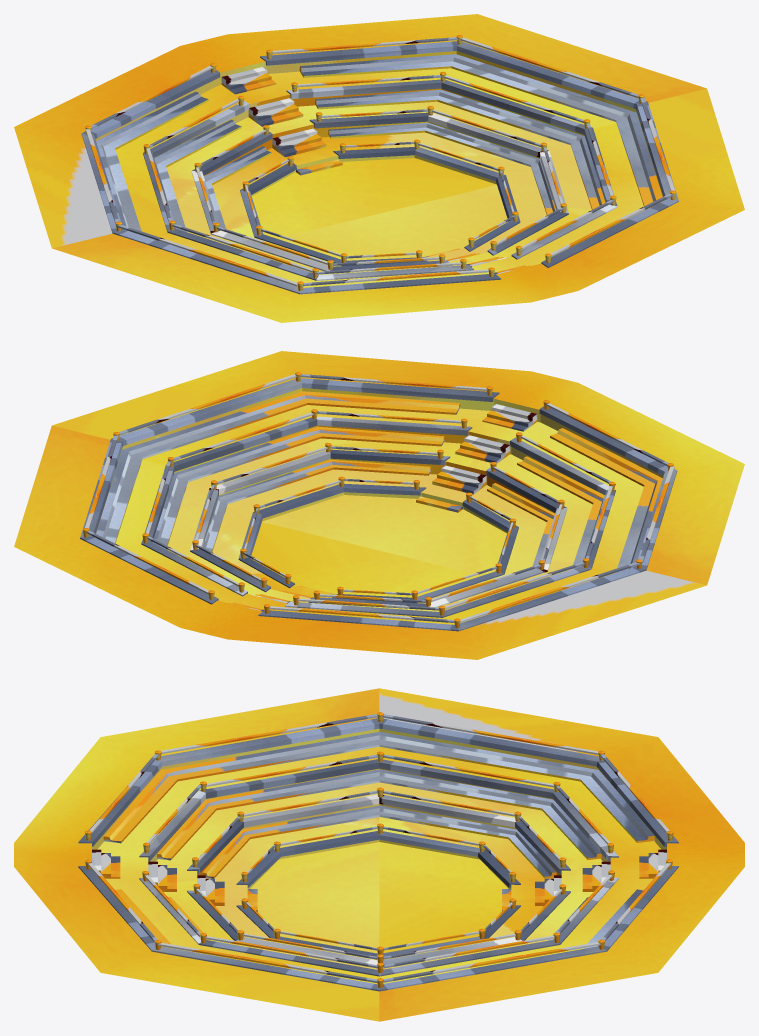
Rendered from SM_Bleachers.fbx.
3 renders of one model, top to bottom at view 1: azimuth 30°, elevation 25°; view 2: azimuth 150°, elevation 25°; view 3: azimuth 270°, elevation 25°, orthographic. The views are drawn at different scales.
Parts seen in each view (by area): view 1: SM_Bleachers, SM_Benches; view 2: SM_Bleachers, SM_Benches; view 3: SM_Bleachers, SM_Benches.
Part boxes in pixels (<box>): SM_Bleachers: <box>14,14,744,322</box>; SM_Benches: <box>96,54,662,247</box>; SM_Bleachers: <box>14,351,744,659</box>; SM_Benches: <box>95,391,662,588</box>; SM_Bleachers: <box>14,688,744,1021</box>; SM_Benches: <box>103,731,654,948</box>.
Bounding box in the file's own units: 13417 × 1068 × 12433.
